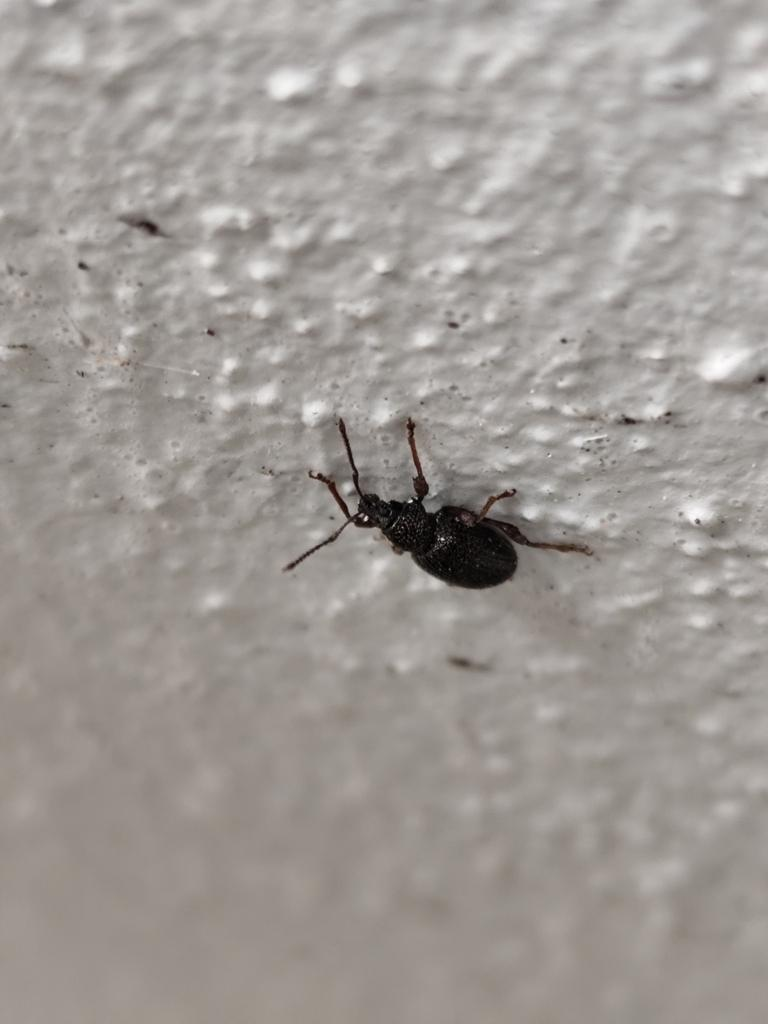weevils: (234, 386, 619, 649)
